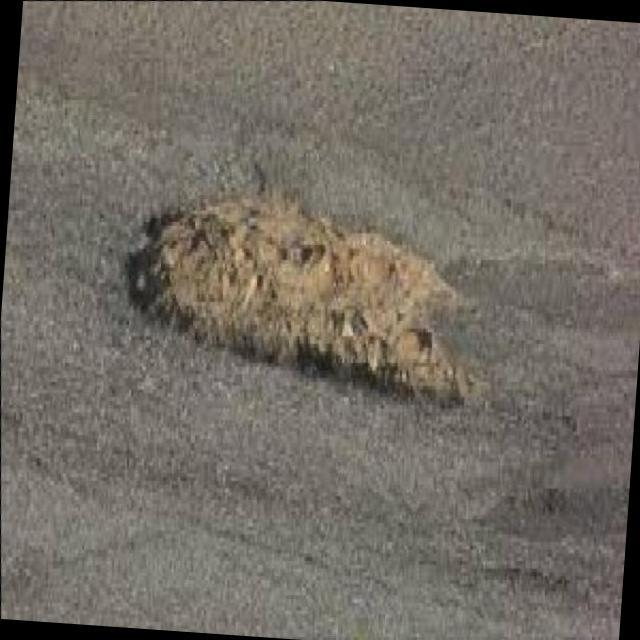pothole: (105, 173, 499, 415)
